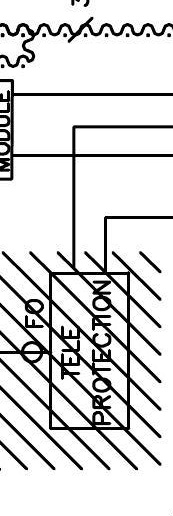tele_protection: (47, 270, 133, 433)
